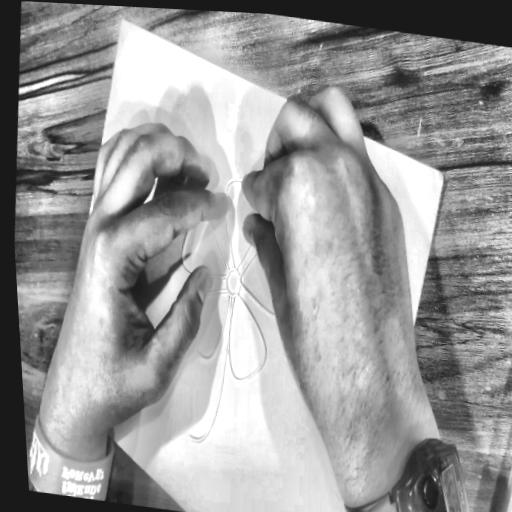flower: (135, 141, 318, 499), (117, 12, 127, 28)
